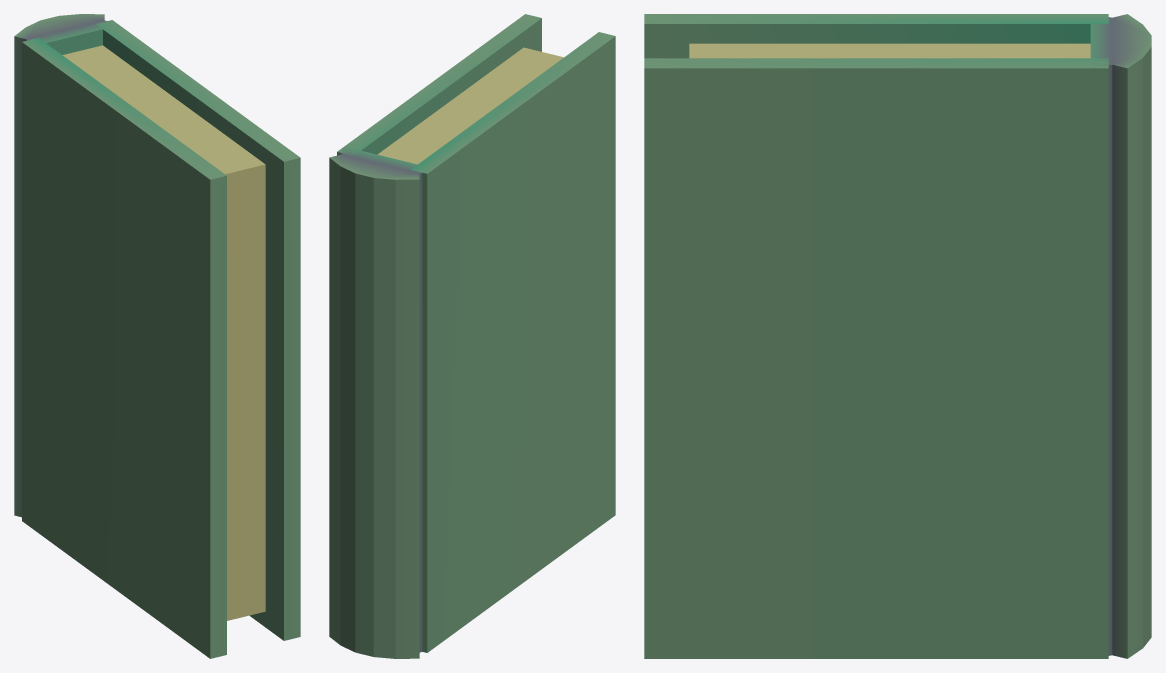
3 renders of one model, left to right at view 1: azimuth 30°, elevation 25°; view 2: azimuth 150°, elevation 25°; view 3: azimuth 270°, elevation 25°, orthographic. The views are drawn at different scales.
Parts seen in each view (by area): view 1: board.001, pages, board, binding; view 2: board.001, binding, board, pages; view 3: board, binding, board.001, pages.
Part boxes in pixels (x1,y1,x2,y2): board.001: (22,38,226,658); pages: (62,45,265,620); board: (96,20,300,640); binding: (14,14,111,517); board.001: (411,32,615,652); binding: (329,146,422,658); board: (337,14,541,155); pages: (378,47,563,164); board: (644,58,1108,658); binding: (1090,14,1151,658); board.001: (644,14,1108,58); pages: (689,43,1090,58).
Bounding box in the file's own units: 0.0593 × 0.3 × 0.2337.
